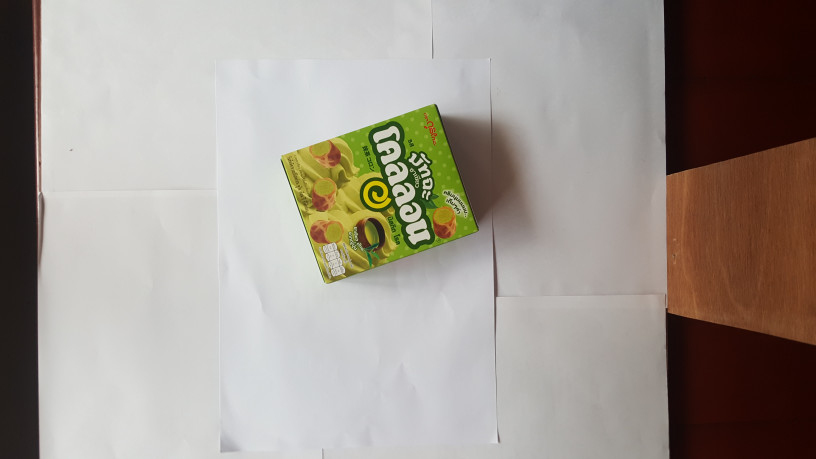collon-matcha: (278, 104, 481, 288)
